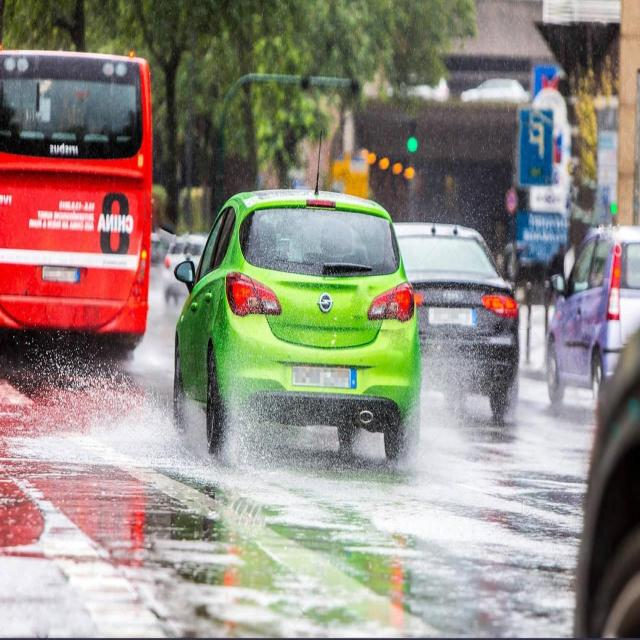Bus: (0, 44, 150, 358)
Car: (170, 187, 421, 476), (388, 214, 524, 413), (545, 224, 640, 403)
